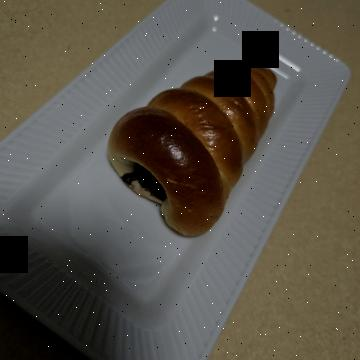cream horn: (37, 64, 250, 265)
